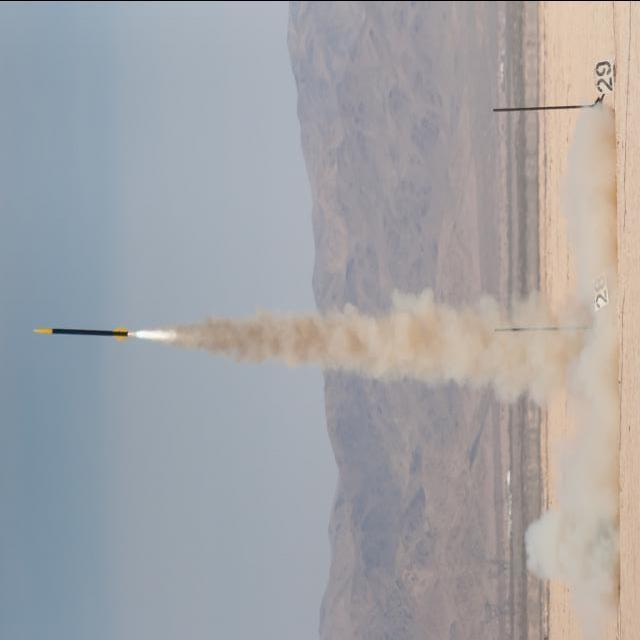Missile: (33, 324, 143, 341)
